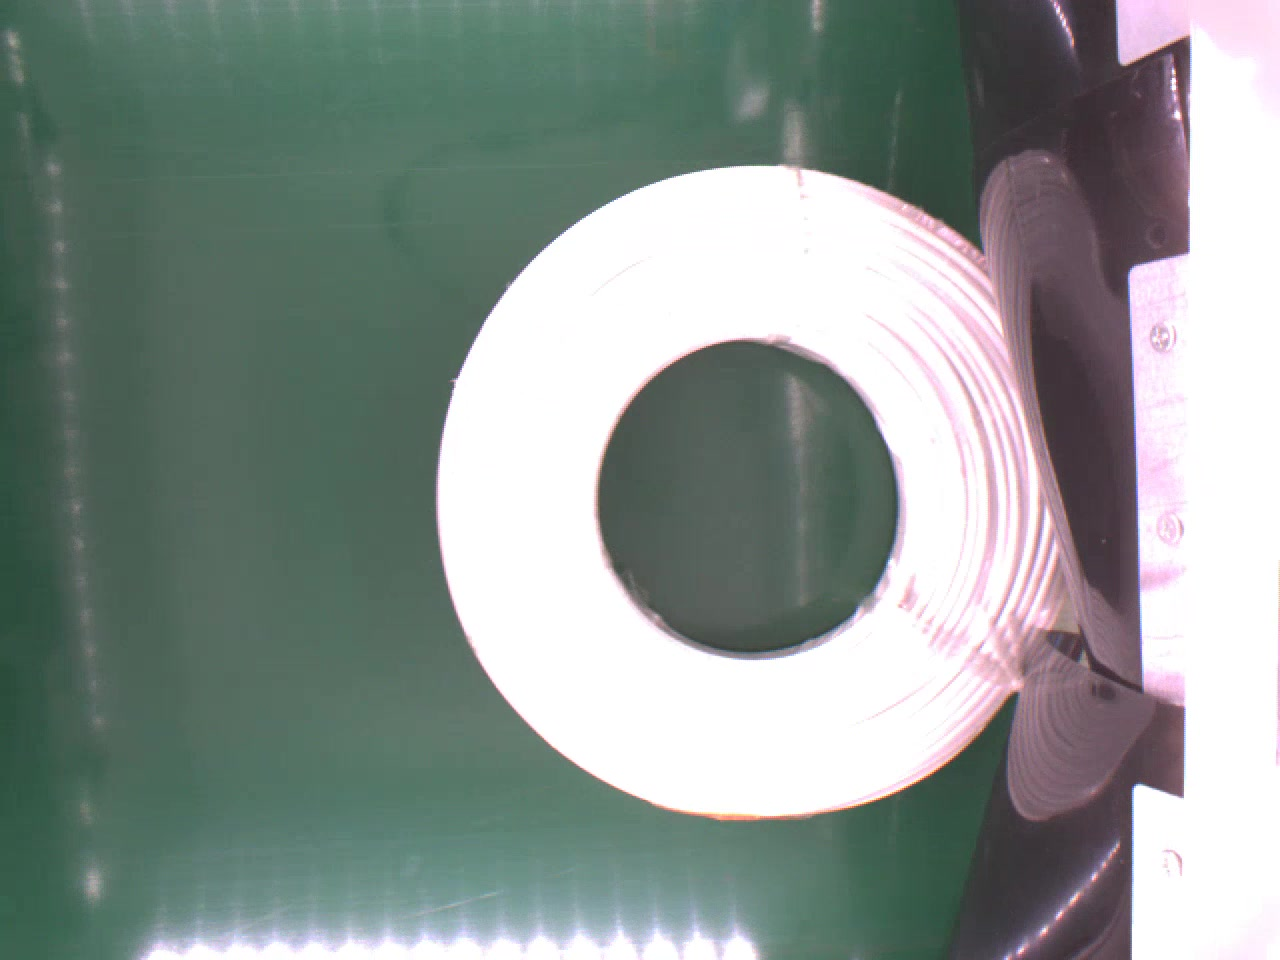white: (437, 159, 1069, 820)
